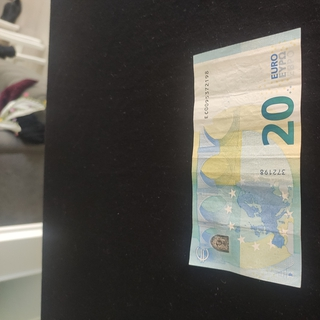20EUROBack: (188, 27, 302, 288)
